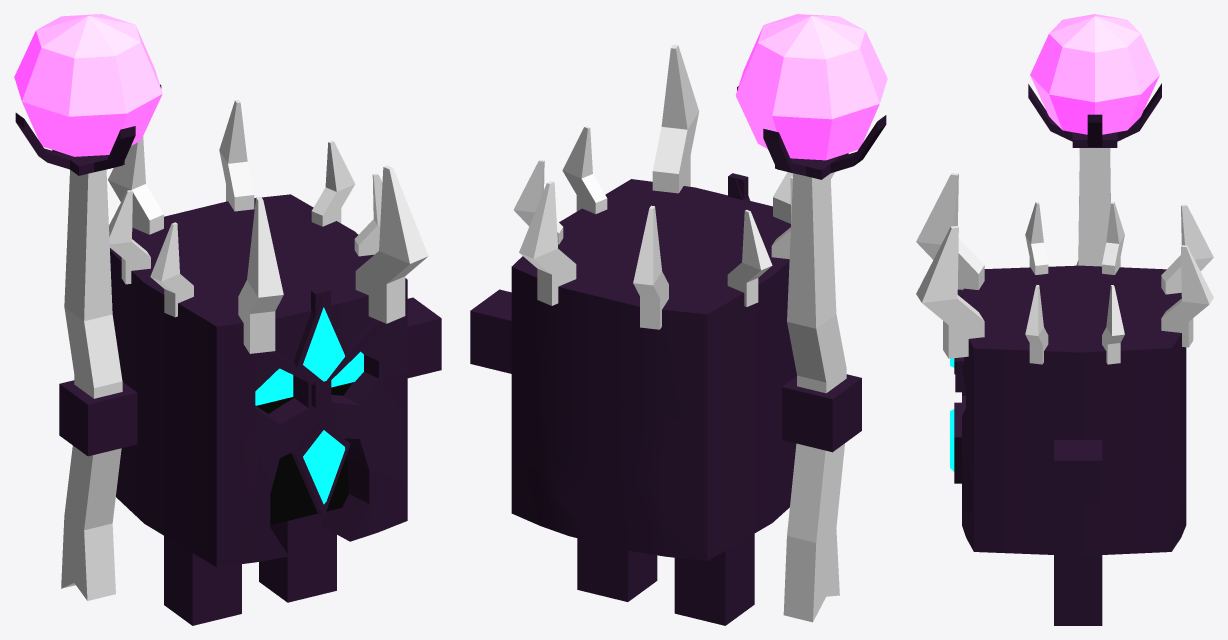
File: Distance1.fbx
3 renders of one model, left to right at view 1: azimuth 30°, elevation 25°; view 2: azimuth 150°, elevation 25°; view 3: azimuth 270°, elevation 25°, orthographic. The views are drawn at different scales.
Parts seen in each view (by area): view 1: Cube.333, Cube.350, Sphere.004, Cube.338, Cube.332, Cube.331, Main Droite.013, Cube.337, Cube.345, Cube.336, Corp.013, Cube.340 (+12 smaller); view 2: Cube.333, Cube.350, Sphere.004, Cube.331, Main Droite.013, Cube.338, Cube.332, Cube.339, Main Gauche.013, Cube.340, Cube.351, Cube.341 (+3 smaller); view 3: Cube.333, Sphere.004, Cube.338, Cube.350, Cube.332, Main Gauche.013, Cube.337, Cube.339, Cube.351, Cube.340, Cube.343, Cube.344 (+3 smaller).
Part boxes in pixels (x1,y1,x2,y2): Cube.333: (110, 194, 407, 567); Cube.350: (61, 169, 122, 600); Sphere.004: (14, 14, 162, 156); Cube.338: (355, 165, 428, 323); Cube.332: (259, 511, 336, 602); Cube.331: (164, 536, 241, 625); Main Droite.013: (59, 380, 137, 456); Cube.337: (238, 196, 283, 353); Cube.345: (291, 419, 350, 518); Cube.336: (293, 293, 350, 388); Corp.013: (257, 368, 352, 524); Cube.340: (108, 136, 163, 234); Cube.333: (511, 179, 796, 561); Cube.350: (783, 173, 846, 622); Sphere.004: (735, 14, 887, 160); Cube.331: (674, 533, 754, 625); Main Droite.013: (782, 374, 861, 452); Cube.338: (652, 44, 699, 193); Cube.332: (577, 538, 657, 601); Cube.339: (519, 181, 576, 305); Main Gauche.013: (470, 289, 511, 373); Cube.340: (633, 205, 668, 329); Cube.351: (737, 86, 886, 179); Cube.341: (727, 210, 772, 306); Cube.333: (962, 265, 1186, 555); Sphere.004: (1030, 14, 1159, 134); Cube.338: (916, 226, 984, 358); Cube.350: (1076, 148, 1110, 266); Cube.332: (1054, 555, 1102, 625); Main Gauche.013: (1054, 440, 1102, 504); Cube.337: (916, 173, 984, 290); Cube.339: (1161, 245, 1213, 347); Cube.351: (1028, 83, 1161, 147); Cube.340: (1161, 204, 1213, 294); Cube.343: (1025, 285, 1048, 364); Cube.344: (1102, 285, 1124, 364).
Bounding box in the file's own units: 418 × 615 × 321.
